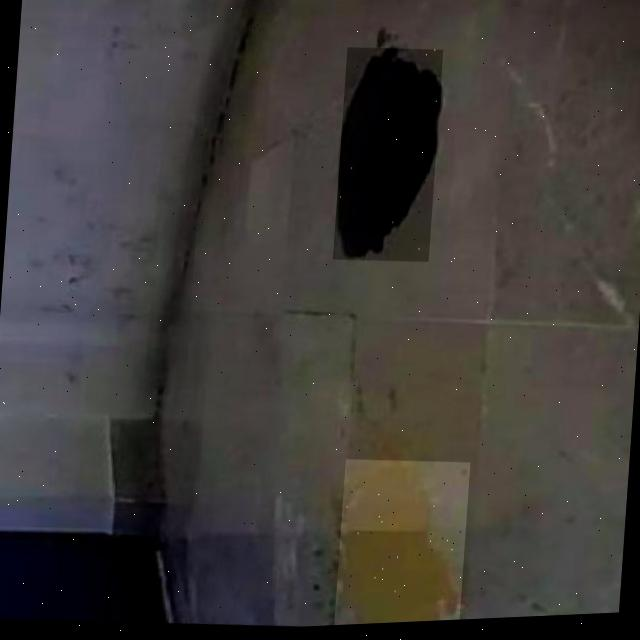spillage: (338, 51, 440, 261), (341, 462, 460, 628)
